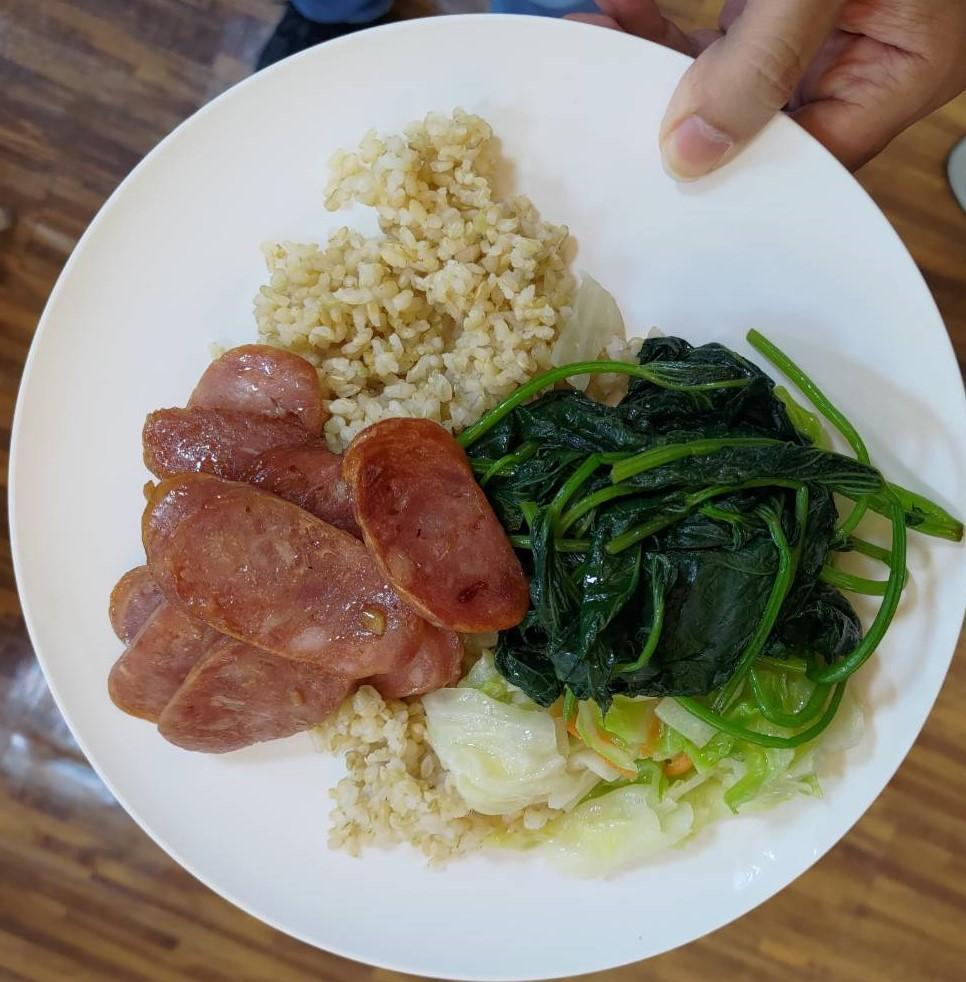big fried chicken leg: (6, 14, 966, 982)
box: (250, 104, 576, 434)
braised fish fillet: (461, 336, 926, 706), (434, 688, 818, 863)
braised pork: (98, 342, 527, 754)
